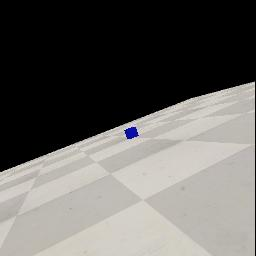box: (124, 127, 139, 139)
